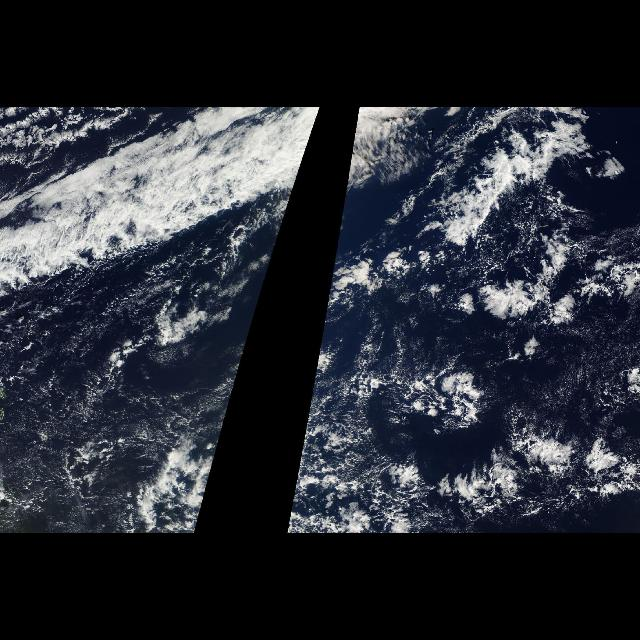Fish: (321, 112, 635, 532)
Gravel: (34, 337, 248, 517), (291, 337, 414, 517)
Sugar: (4, 300, 154, 532)
